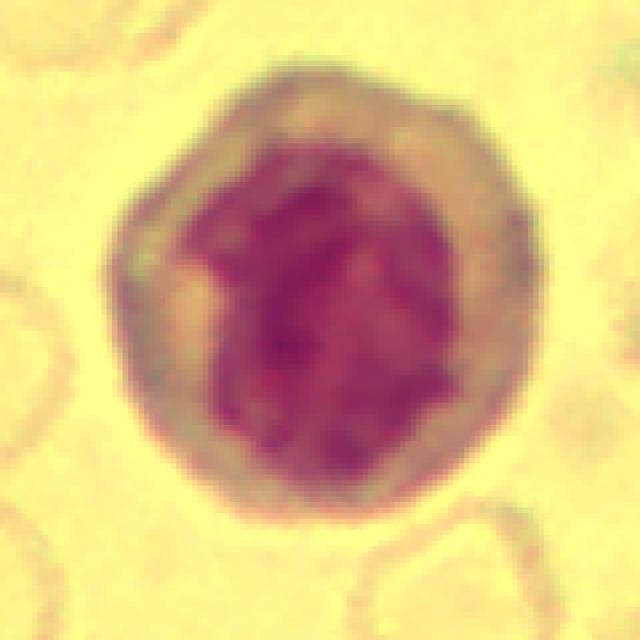WBC: (85, 50, 571, 557)
